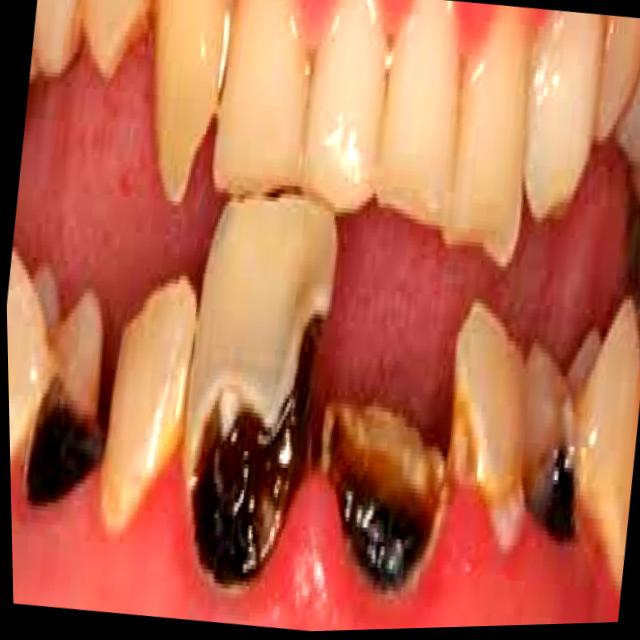cariess: (191, 323, 319, 588), (320, 406, 443, 595), (24, 385, 101, 506), (527, 449, 573, 545), (446, 405, 478, 481)
